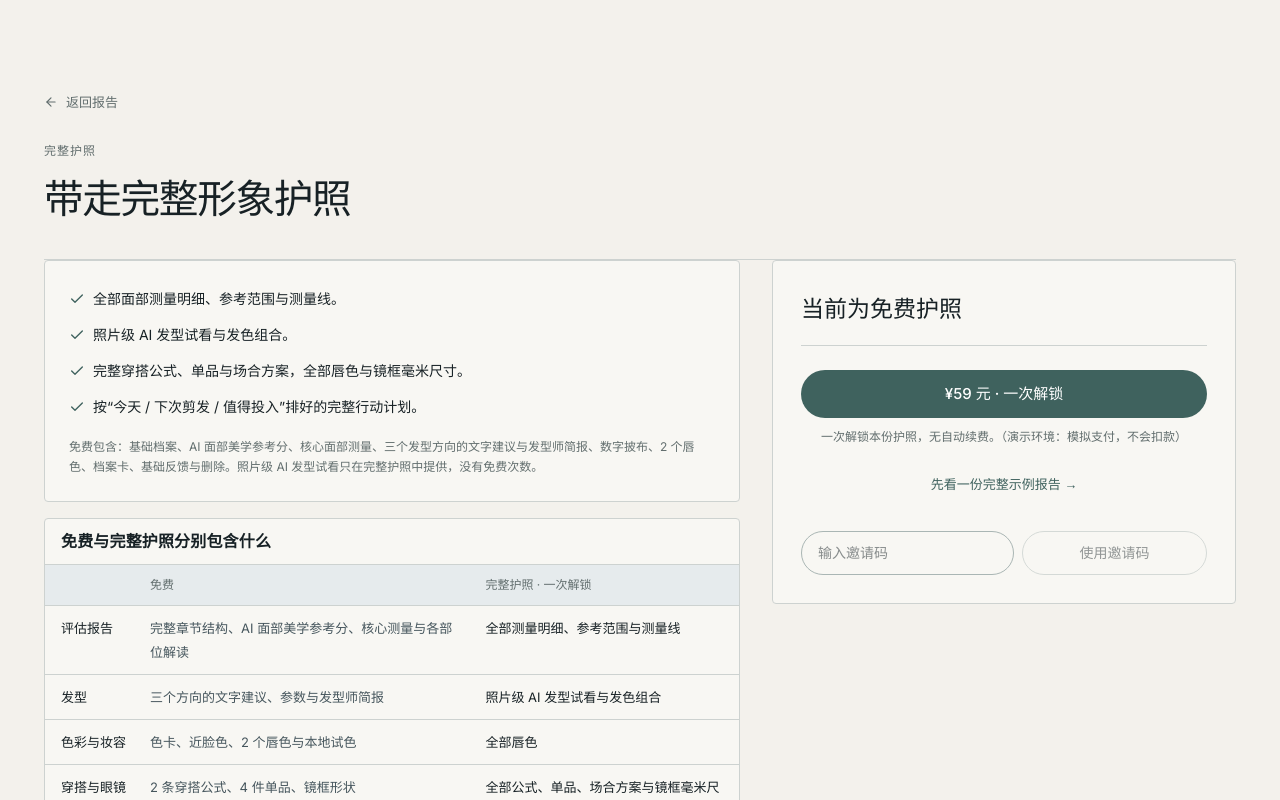
ENG-05 entitlement presentation › announces a failed unlock and leaves checkout retryable
The image size is (1280, 800).
Click the button "¥59 元 · 一次解锁" at (1004, 394), box [801,370,1207,418]
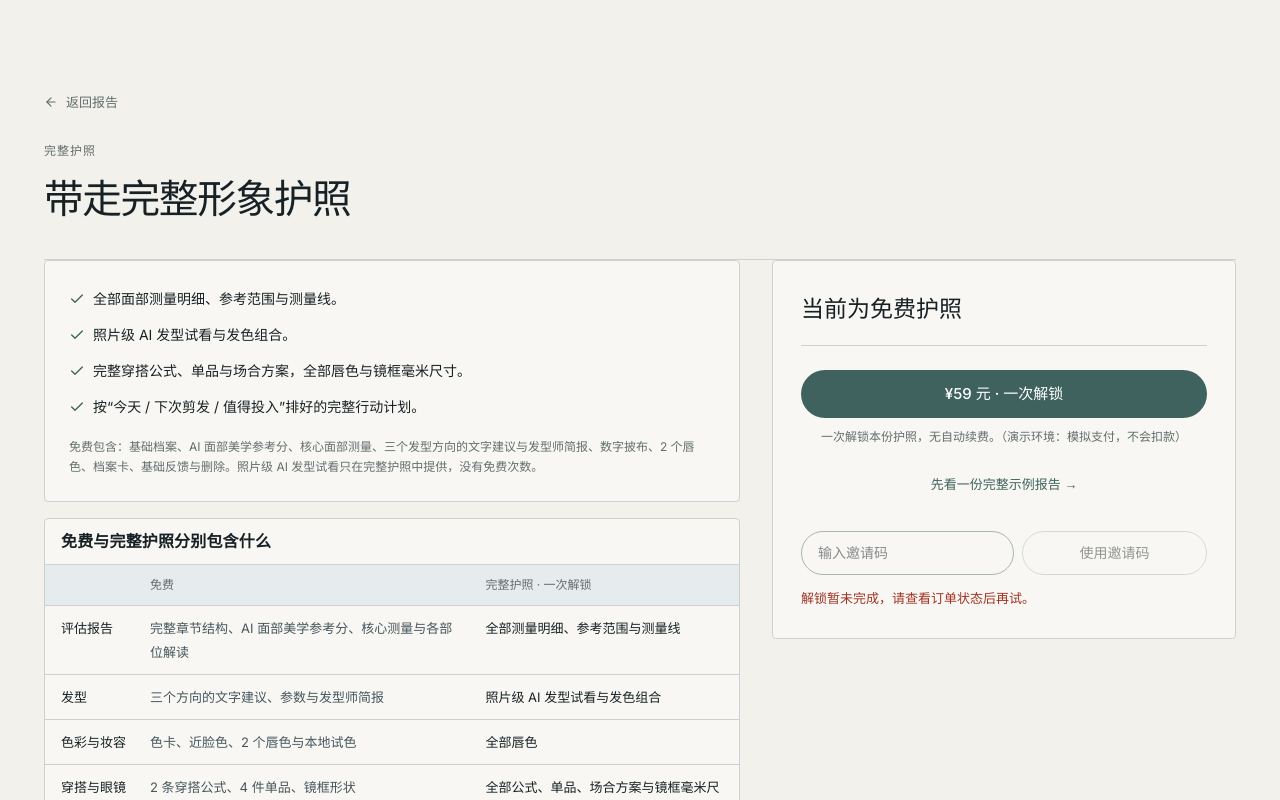
Check: the message reads "解锁暂未完成，请查看订单状态后再试。", box [801,590,1035,606]
